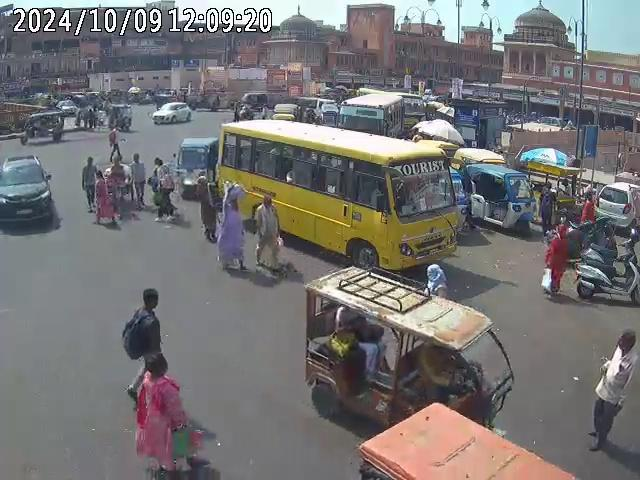auto: (304, 263, 516, 422), (351, 400, 600, 479), (458, 155, 535, 235), (174, 136, 219, 195), (20, 109, 67, 144), (106, 102, 133, 131)
bus: (215, 120, 459, 270), (337, 91, 405, 140)
car: (0, 151, 54, 226), (150, 102, 193, 125)
person: (140, 351, 208, 476), (590, 328, 639, 457), (120, 290, 167, 369), (213, 185, 249, 275), (252, 192, 283, 275), (540, 223, 570, 298), (150, 157, 176, 220), (80, 155, 103, 217), (128, 154, 148, 210)
scooty: (569, 229, 640, 298)
